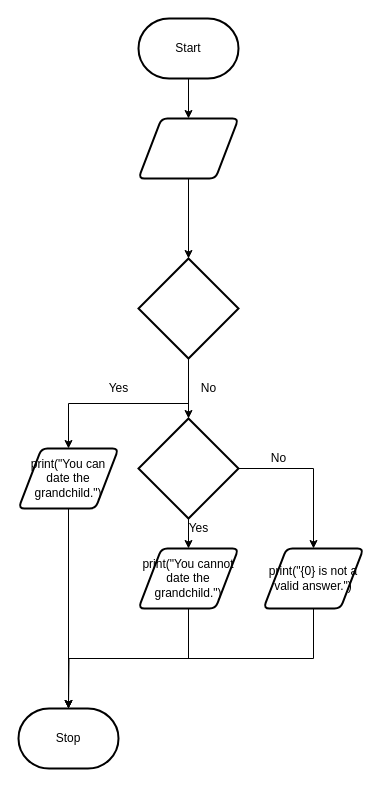
The diagram is 381 pixels wide and 786 high, and some of its shapes have lost their labels. The centre of each missing label's shape, as x and y in pixels:
"Get income and looks" belongs at (x=188, y=148).
"if income AND looks = no" belongs at (x=188, y=468).
"if income OR looks = yes" belongs at (x=188, y=308).
